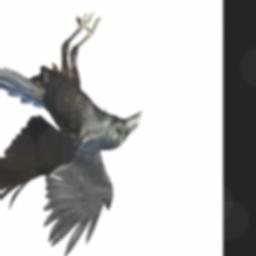Crow: (0, 13, 143, 256)
